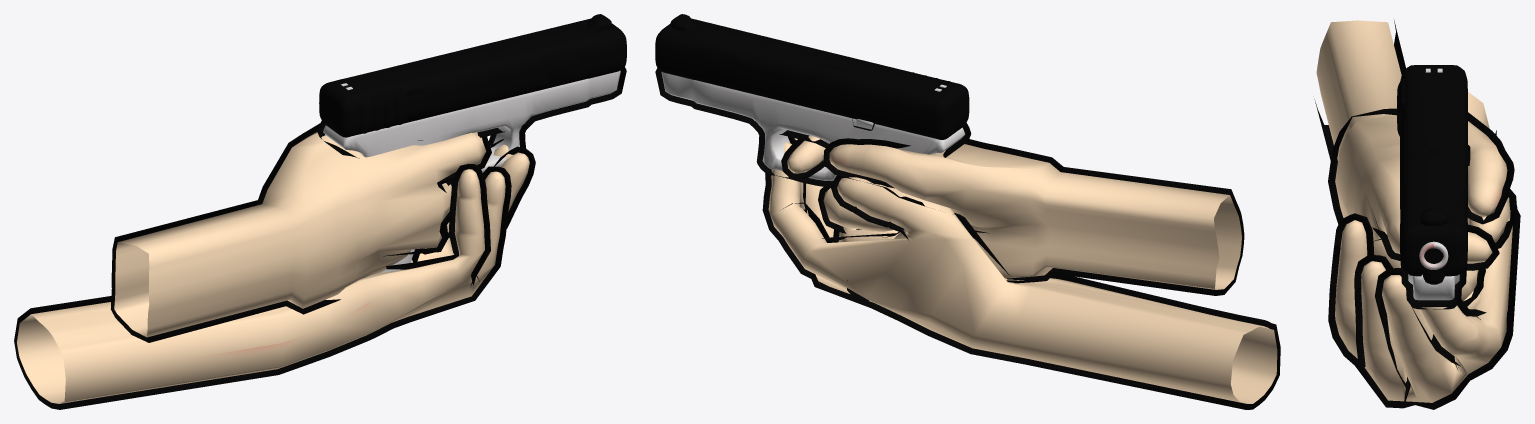
Rendered from fp_hands.glb.
3 renders of one model, left to right at view 1: azimuth 30°, elevation 25°; view 2: azimuth 150°, elevation 25°; view 3: azimuth 270°, elevation 25°, orthographic. The views are drawn at different scales.
Visible parts, largest first — view 1: Ready_for_Scale.001; view 2: Ready_for_Scale.001; view 3: Ready_for_Scale.001.
Part boxes in pixels (left/top/right/bottom): Ready_for_Scale.001: left=14, top=14, right=626, bottom=409; Ready_for_Scale.001: left=655, top=14, right=1280, bottom=409; Ready_for_Scale.001: left=1314, top=20, right=1520, bottom=409.
Bounding box in the file's own units: 7.71 × 3.31 × 2.01.
1 material, 1 textured.
